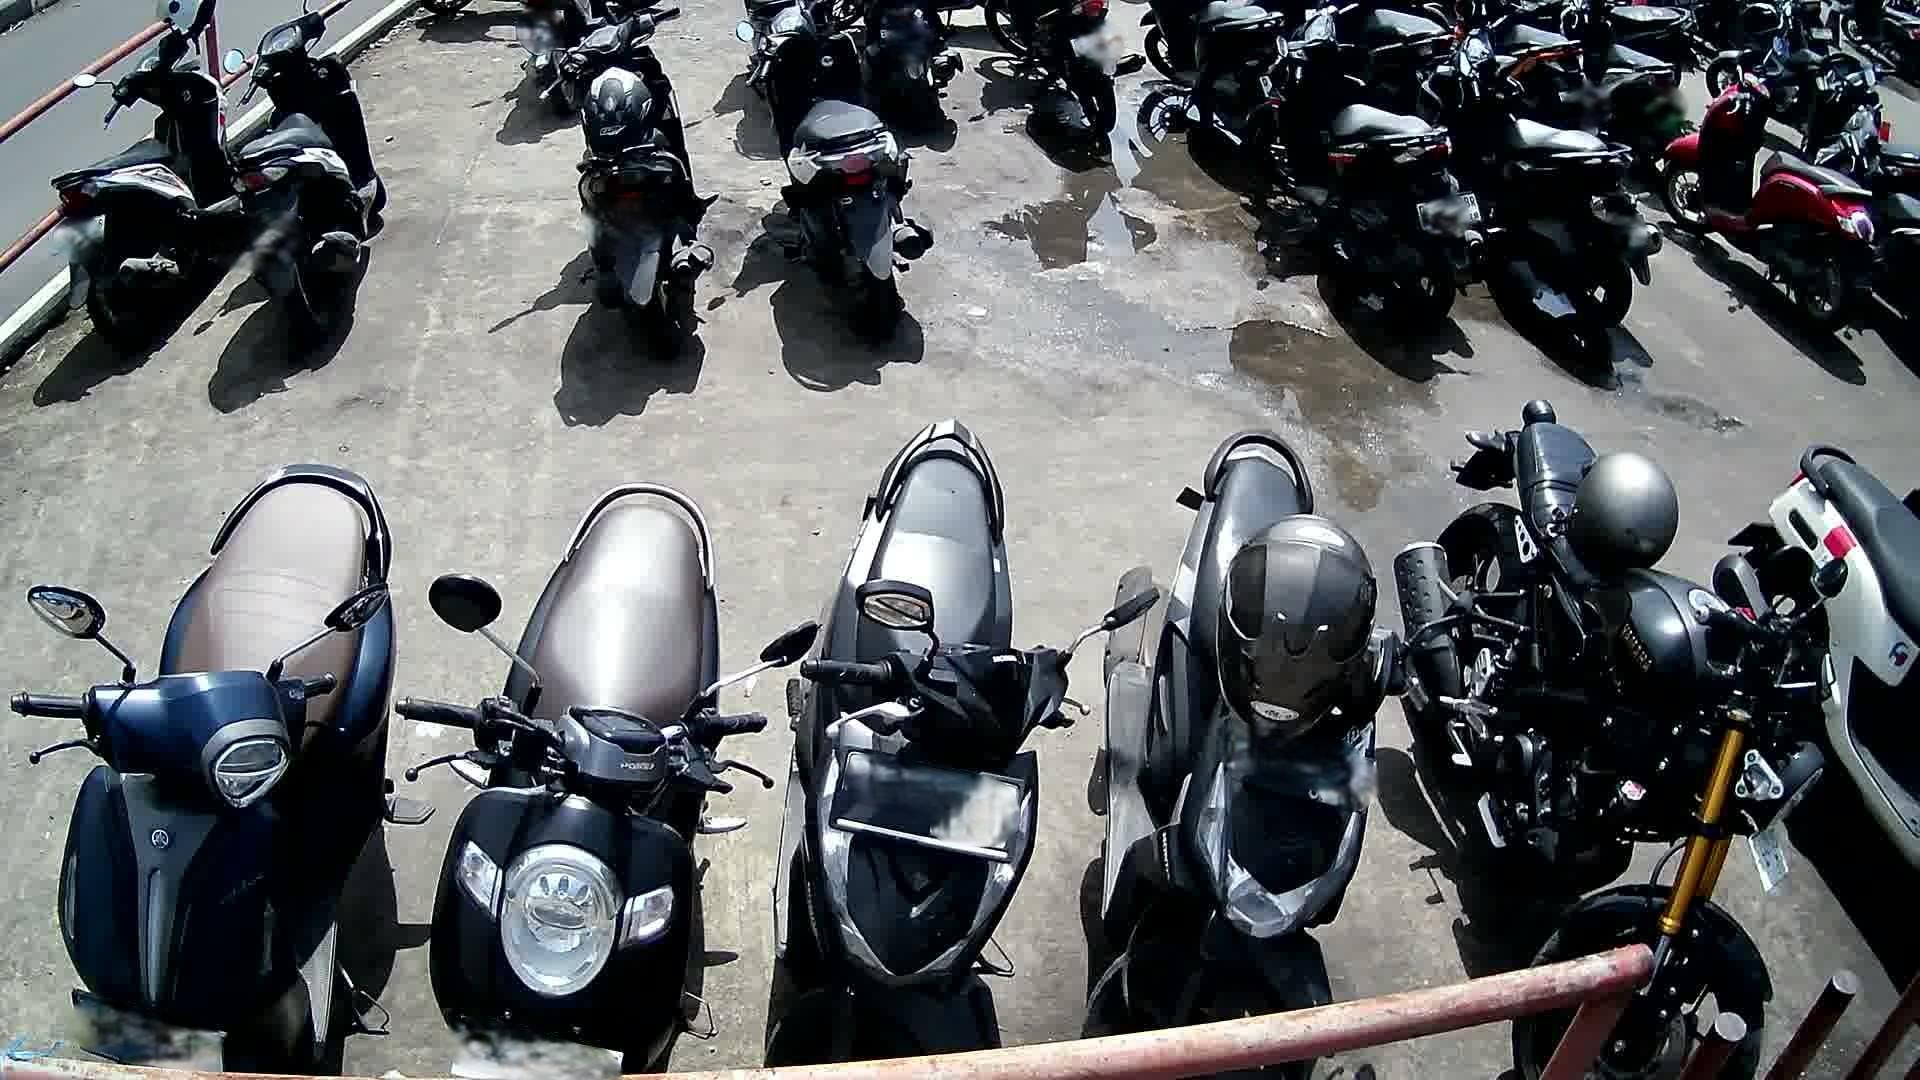motorcycle: (1398, 401, 1832, 1080), (11, 459, 439, 1080), (394, 480, 818, 1080), (765, 417, 1131, 1080), (1091, 427, 1407, 1080), (1713, 440, 1920, 873), (1242, 1, 1487, 348), (1411, 17, 1668, 343), (732, 0, 936, 343), (538, 5, 725, 367), (49, 13, 241, 356), (1662, 51, 1884, 340), (220, 0, 390, 349)
